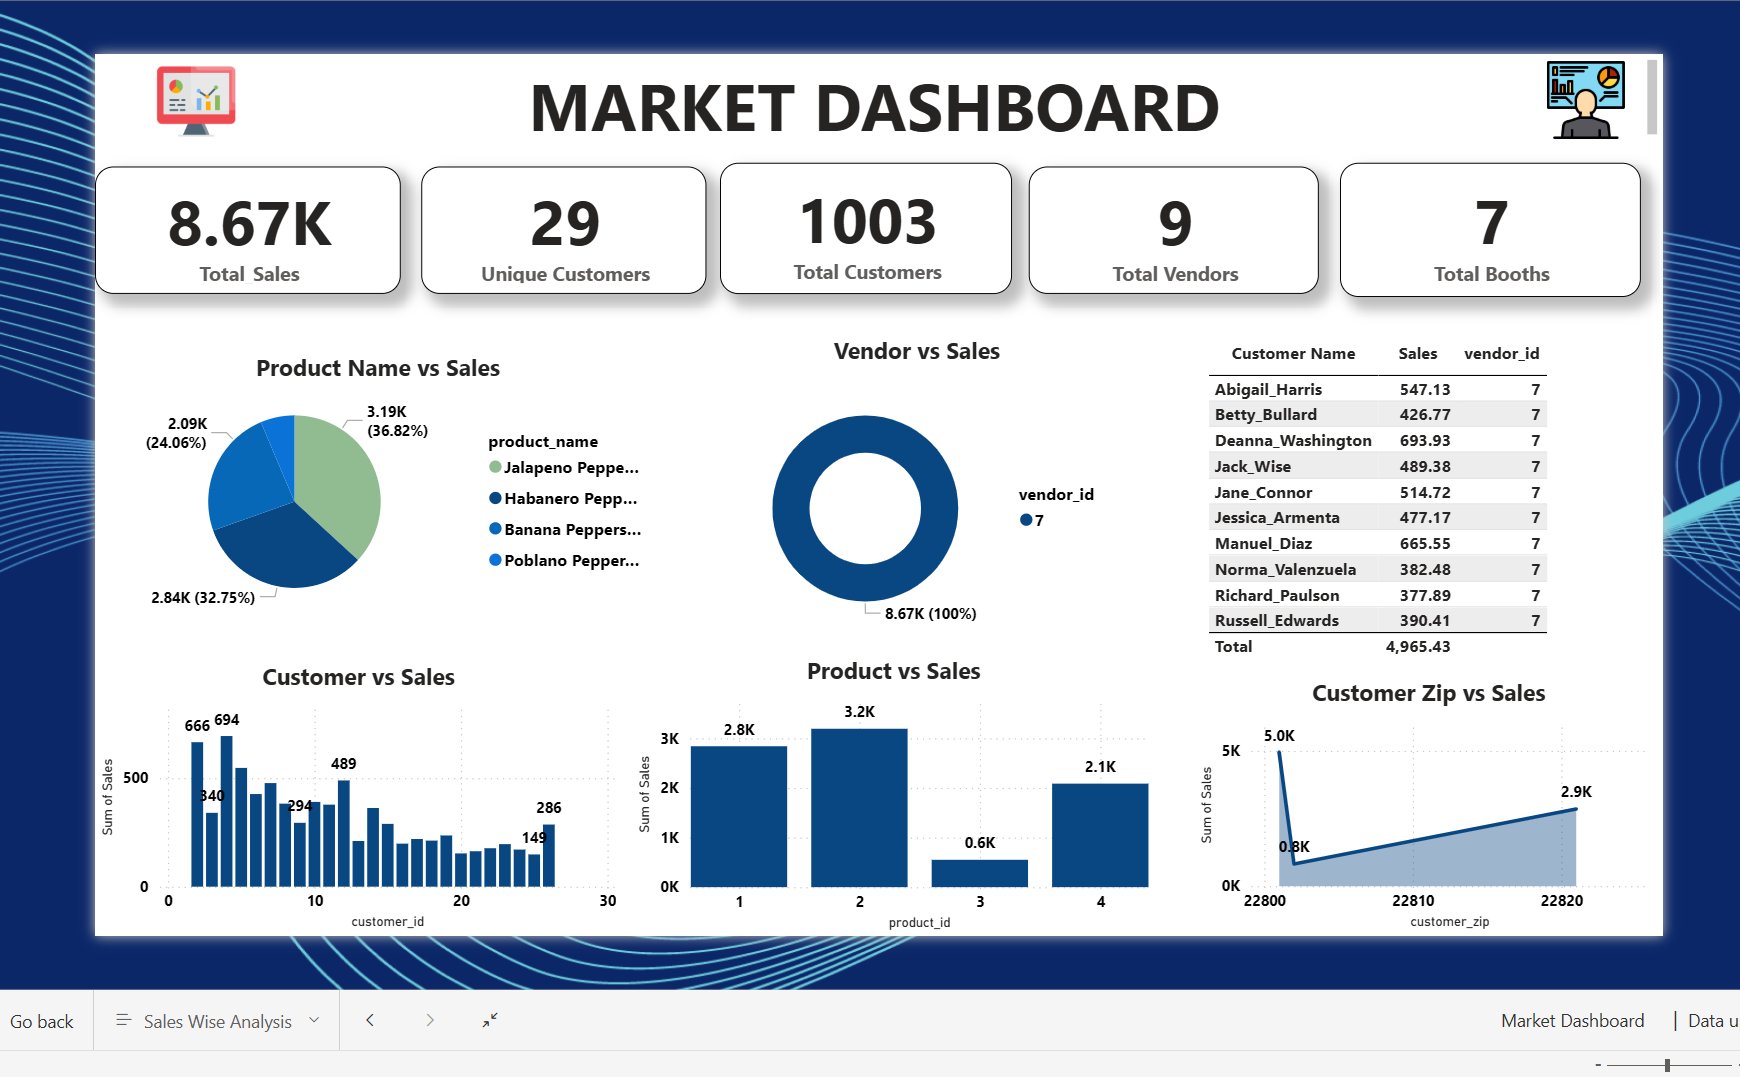

The dashboard page shown, as its layout file describes it:
{"tool":"powerbi","page":{"name":"Sales Wise Analysis","canvas":[1280,720],"ordinal":1},"visuals":[{"type":"columnChart","title":"Customer vs Sales","fields":{"Category":["customer_purchases.customer_id"],"Y":["Sum(customer_purchases.Sales)"]},"box":[0,494.9,430.5,224.9],"z":0},{"type":"clusteredColumnChart","title":"Product vs Sales","fields":{"Category":["product.product_id"],"Y":["Sum(customer_purchases.Sales)"]},"box":[438.7,489.5,426.4,230.3],"z":1000},{"type":"pieChart","title":"Product Name vs Sales","fields":{"Category":["product.product_name"],"Y":["Sum(customer_purchases.Sales)"]},"box":[0,242.7,462,220.7],"z":2000},{"type":"donutChart","title":"Vendor vs Sales","fields":{"Category":["customer_purchases.vendor_id"],"Y":["Sum(customer_purchases.Sales)"]},"box":[499.1,229,344.1,260.5],"z":3000},{"type":"textbox","box":[0,0,1280.6,75.4],"z":4000},{"type":"image","box":[1153,0,127.5,75.4],"z":5000},{"type":"image","box":[43.9,0,78.1,78.1],"z":6000},{"type":"card","fields":{"Values":["customer_purchases.Total_Sales"]},"box":[0,91.9,249.5,104.2],"z":7000},{"type":"card","fields":{"Values":["Count(customer_purchases.customer_id)"]},"box":[266,91.9,233.1,104.2],"z":8000},{"type":"card","fields":{"Values":["CountNonNull(customer_purchases.customer_id)"]},"box":[510,89.1,238.6,106.9],"z":9000},{"type":"card","fields":{"Values":["Count(vendor.vendor_id)"]},"box":[762.3,91.9,237.2,104.2],"z":10000},{"type":"card","fields":{"Values":["Count(vendor_booth_assignments.booth_number)"]},"box":[1015.9,89.1,245.4,109.7],"z":11000},{"type":"tableEx","fields":{"Values":["customer.Customer_FUll_Name","Sum(customer_purchases.Sales)","customer_purchases.vendor_id"]},"box":[903.5,229,377,279.7],"z":12000},{"type":"areaChart","title":"Customer Zip vs Sales","fields":{"Category":["customer.customer_zip"],"Y":["Sum(customer_purchases.Sales)"]},"box":[896.7,508.7,383.9,211.1],"z":13000}]}

Visuals, with their boxes on the page's 1280x720 design canvas (x1, y1, x2, y2). These are canvas units, not pixel positions in the 1740x1077 screenshot, which may show the page scaled, cropped or inside an application window:
"Customer vs Sales" columnChart: bbox=[0, 495, 430, 720]
"Product vs Sales" clusteredColumnChart: bbox=[439, 490, 865, 720]
"Product Name vs Sales" pieChart: bbox=[0, 243, 462, 463]
"Vendor vs Sales" donutChart: bbox=[499, 229, 843, 490]
textbox: bbox=[0, 0, 1281, 75]
image: bbox=[1153, 0, 1280, 75]
image: bbox=[44, 0, 122, 78]
card - customer_purchases.Total_Sales: bbox=[0, 92, 250, 196]
card - Count(customer_purchases.customer_id): bbox=[266, 92, 499, 196]
card - CountNonNull(customer_purchases.customer_id): bbox=[510, 89, 749, 196]
card - Count(vendor.vendor_id): bbox=[762, 92, 1000, 196]
card - Count(vendor_booth_assignments.booth_number): bbox=[1016, 89, 1261, 199]
tableEx - customer.Customer_FUll_Name x Sum(customer_purchases.Sales): bbox=[904, 229, 1280, 509]
"Customer Zip vs Sales" areaChart: bbox=[897, 509, 1281, 720]
